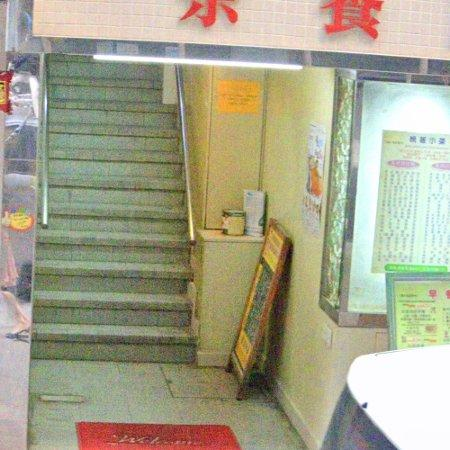stairs: (31, 56, 195, 364)
